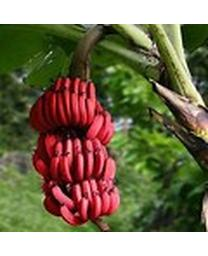banana: (30, 76, 121, 223)
